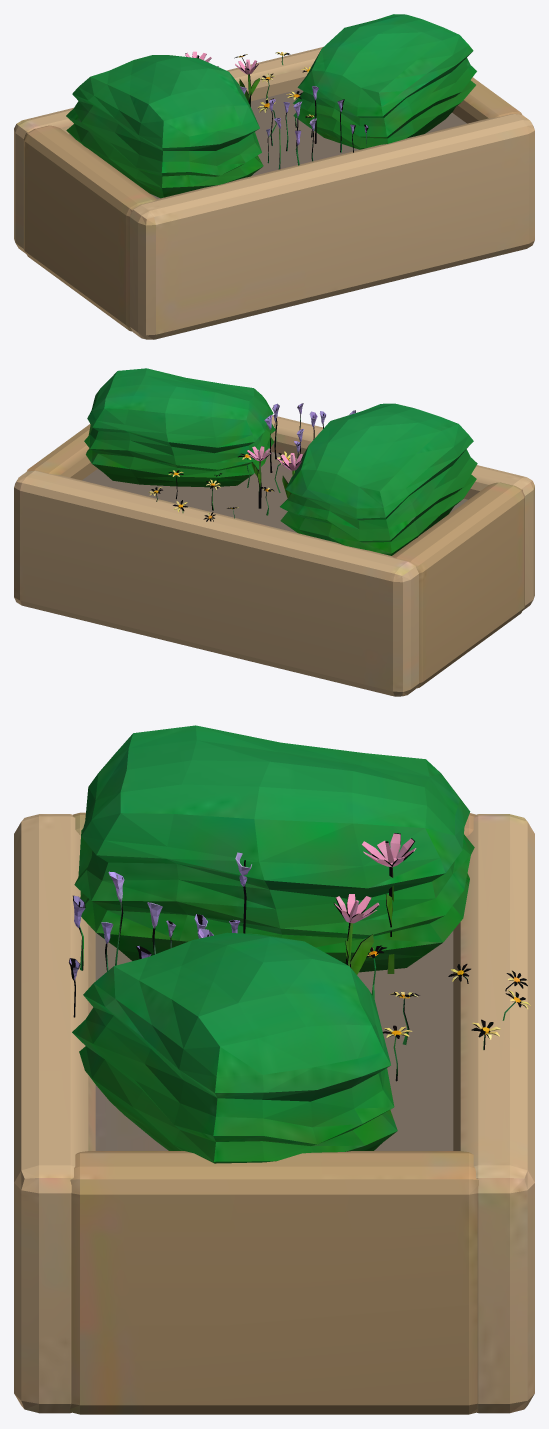
File: plaza_planter_filled.glb
The picture shows the model from 3 angles, top to bottom: view 1: azimuth 30°, elevation 25°; view 2: azimuth 150°, elevation 25°; view 3: azimuth 270°, elevation 25°; orthographic projection. The views are drawn at different scales.
Parts seen in each view (by area): view 1: plaza_planter_filled; view 2: plaza_planter_filled; view 3: plaza_planter_filled.
Boxes of the visible parts, <box> form: plaza_planter_filled: <box>14,14,534,339</box>; plaza_planter_filled: <box>14,368,534,696</box>; plaza_planter_filled: <box>14,725,534,1414</box>.
Bounding box in the file's own units: 1.76 × 0.85 × 1.04.
1 material, 1 textured.
